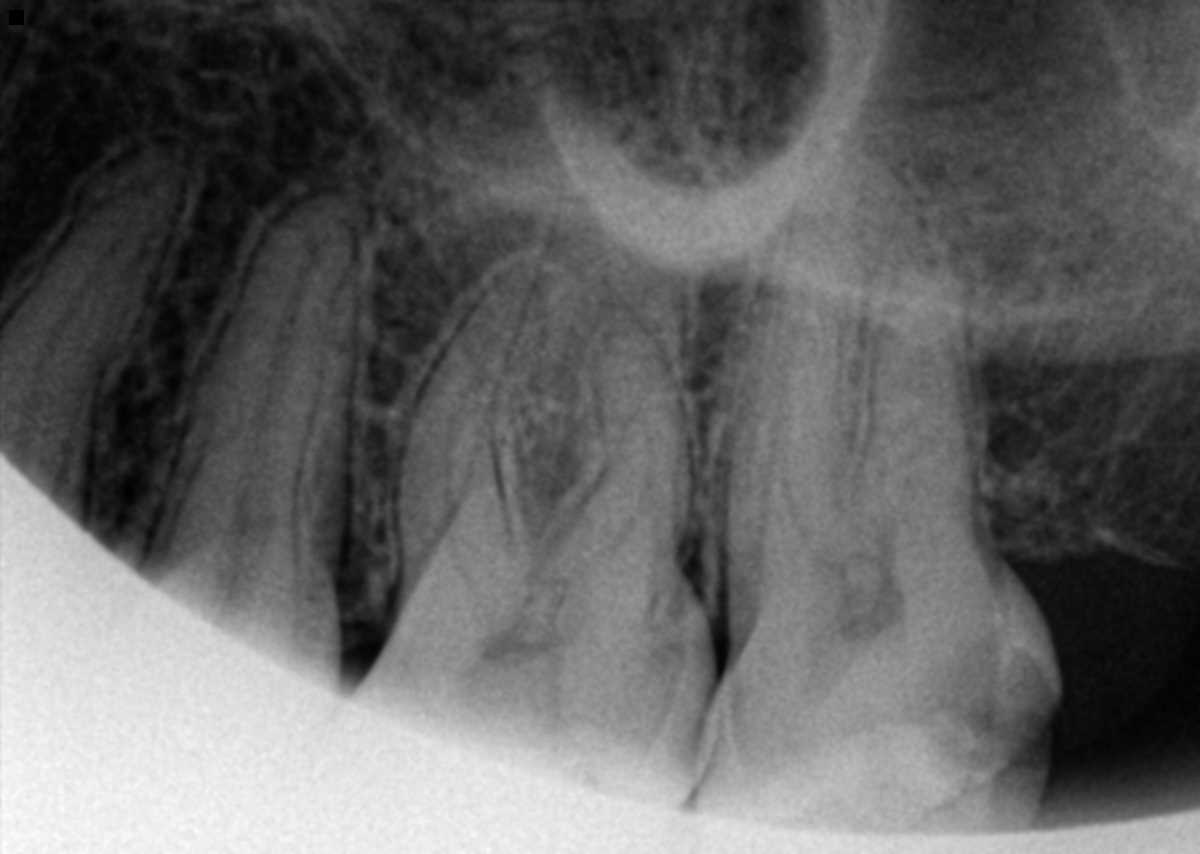Distal Root: (853, 242, 995, 544), (549, 306, 696, 579)
Main Canal: (213, 220, 332, 582), (6, 204, 143, 484)
Main Root: (135, 180, 383, 581), (0, 134, 194, 520)
Mesial Canal: (776, 391, 818, 560)
Mesial Root: (393, 259, 561, 592), (723, 252, 854, 588)
Palatal Root: (438, 112, 690, 588), (754, 136, 975, 575)
decay: (605, 642, 690, 754)
